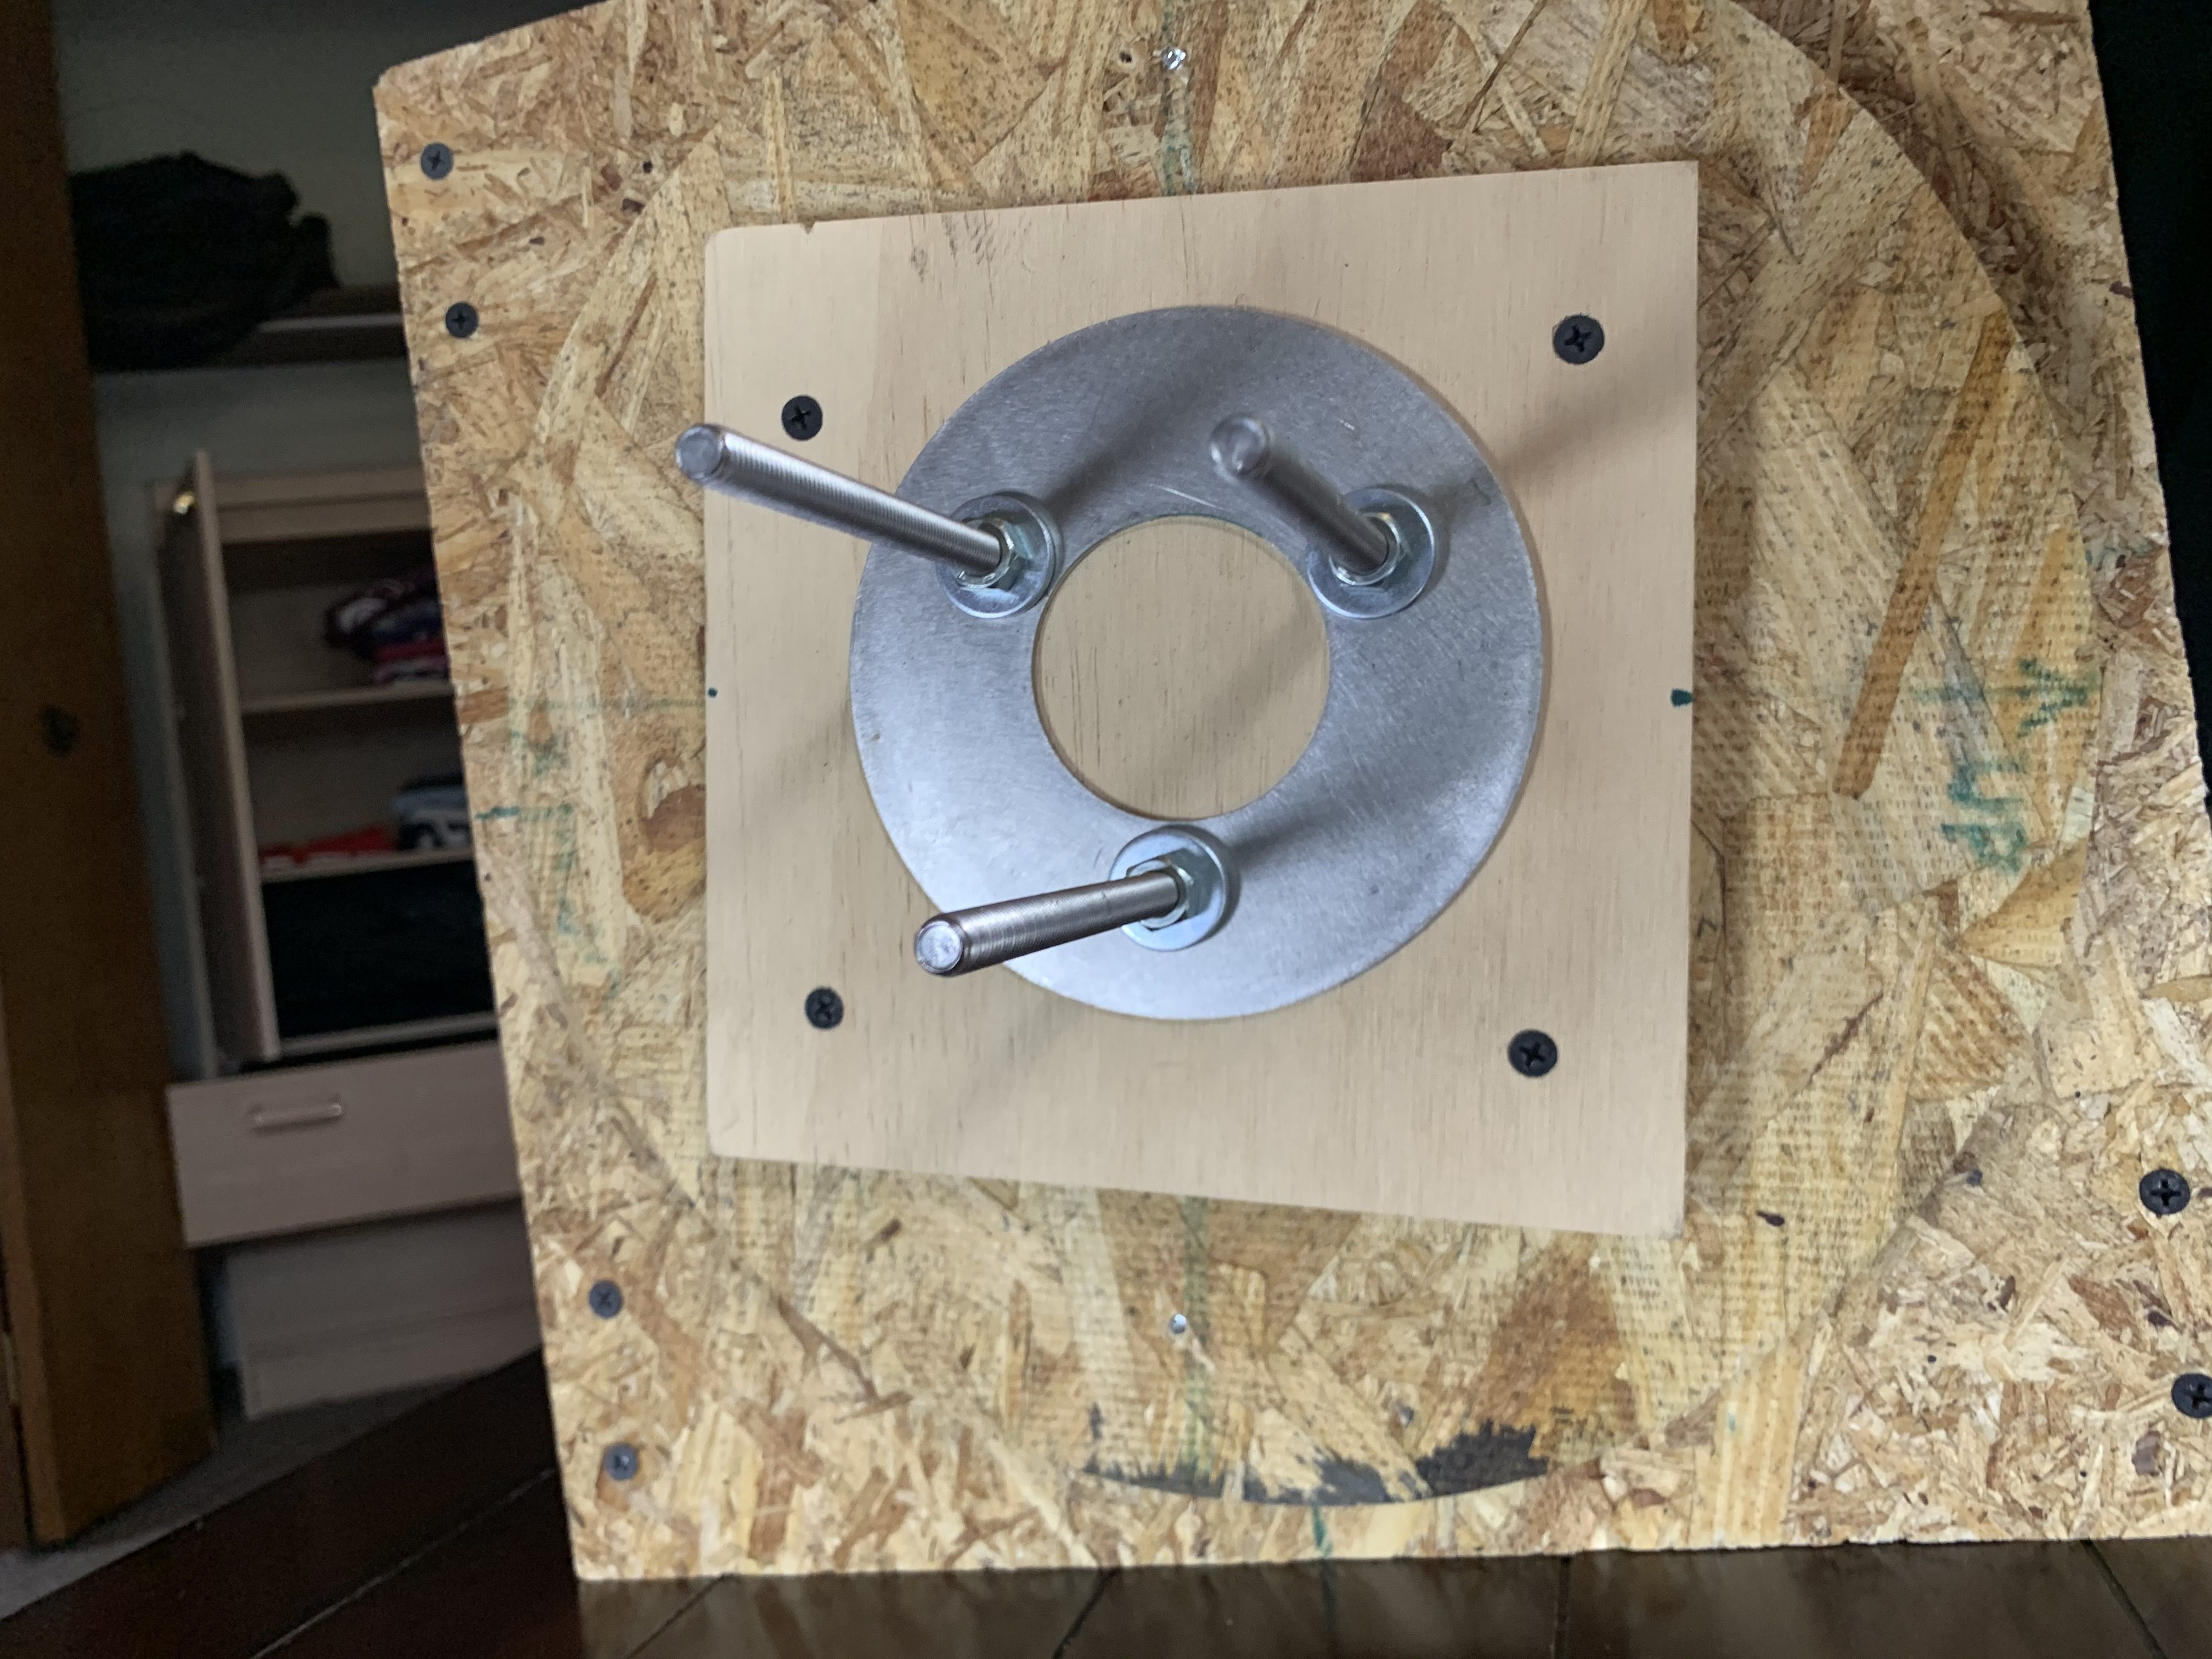bolt: (1291, 479, 1451, 627), (928, 488, 1064, 627), (1103, 823, 1238, 953)
